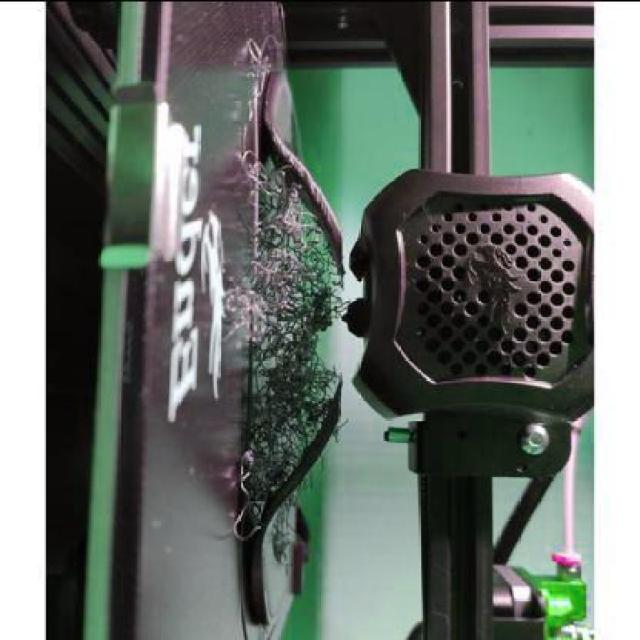Spaghetti: (235, 148, 350, 541), (246, 36, 271, 121)
